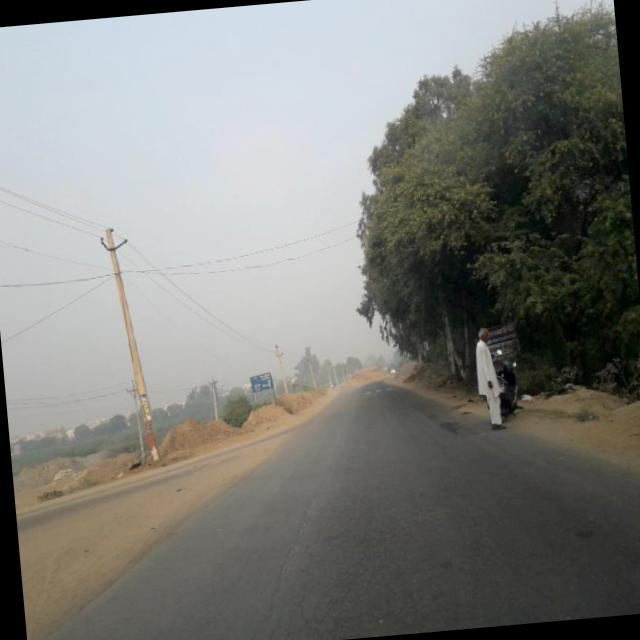crack: (260, 447, 457, 640)
